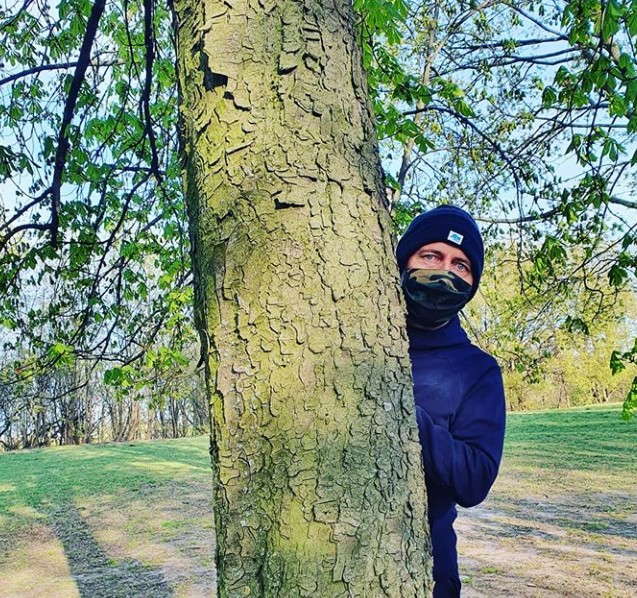face_with_mask: (395, 202, 485, 328)
